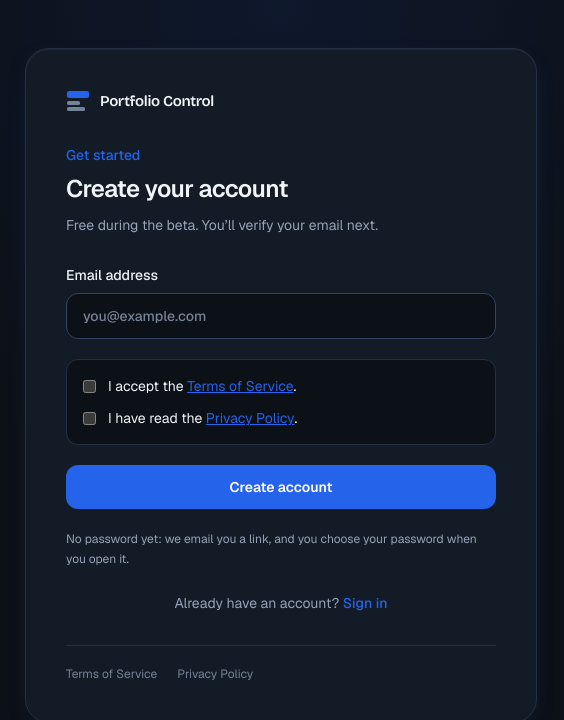
Signup and Turnstile › explains captcha_failed from the server
This screenshot has width=564, height=720.
Type "new@example.com" into the field labelled "Email address".
click(281, 316); type("new@example.com")  # box x1=66 y1=293 x2=496 y2=339
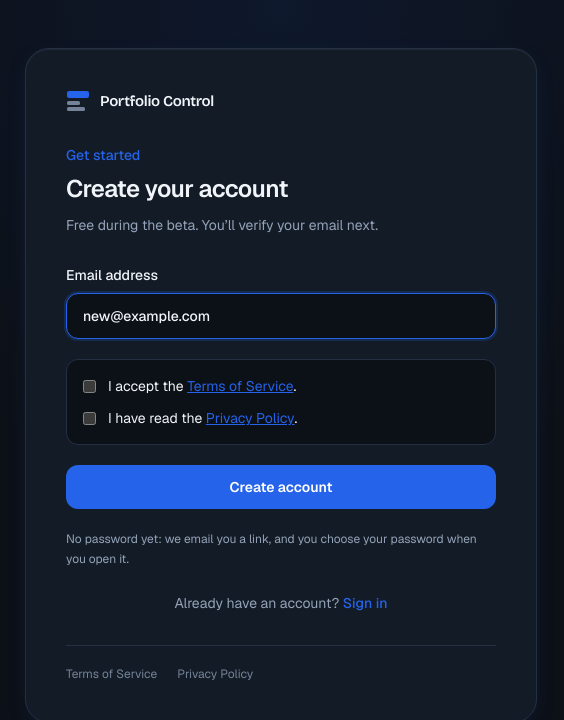
Click the checkbox labelled "I accept the Terms of Service .".
click(90, 386)  # box x1=83 y1=380 x2=96 y2=393
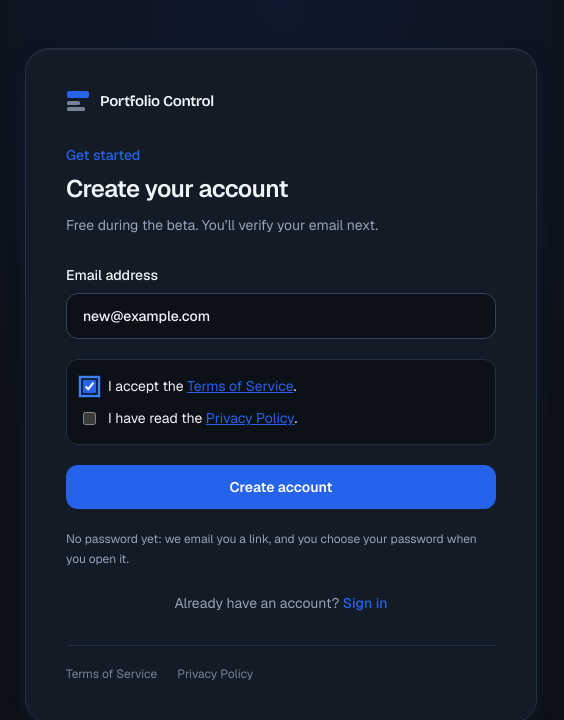
Click the checkbox labelled "I have read the Privacy Policy .".
click(90, 418)  # box x1=83 y1=412 x2=96 y2=425
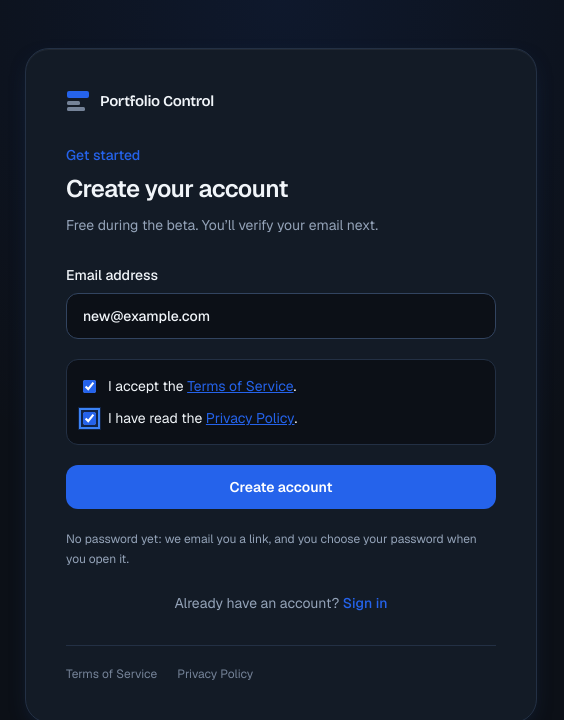
Click the button "Create account".
click(281, 487)  # box x1=66 y1=465 x2=496 y2=509
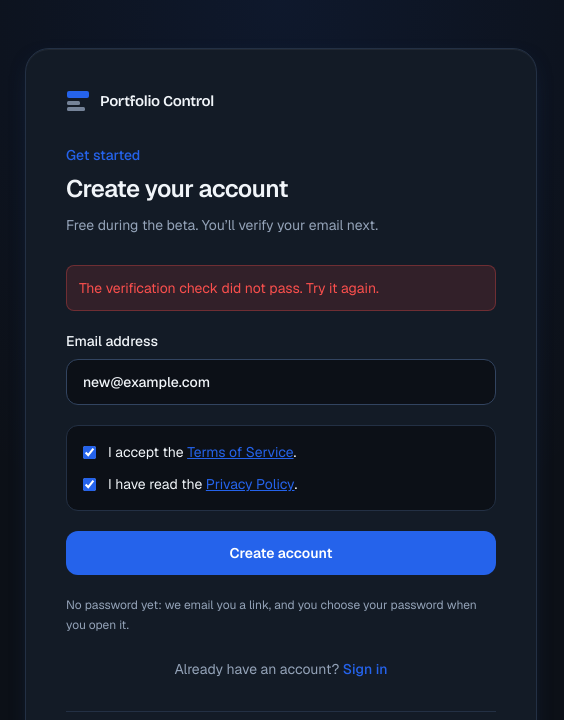
Check: the text "The verification check did not pass. Try it again." is shown, box x1=66 y1=265 x2=496 y2=311
